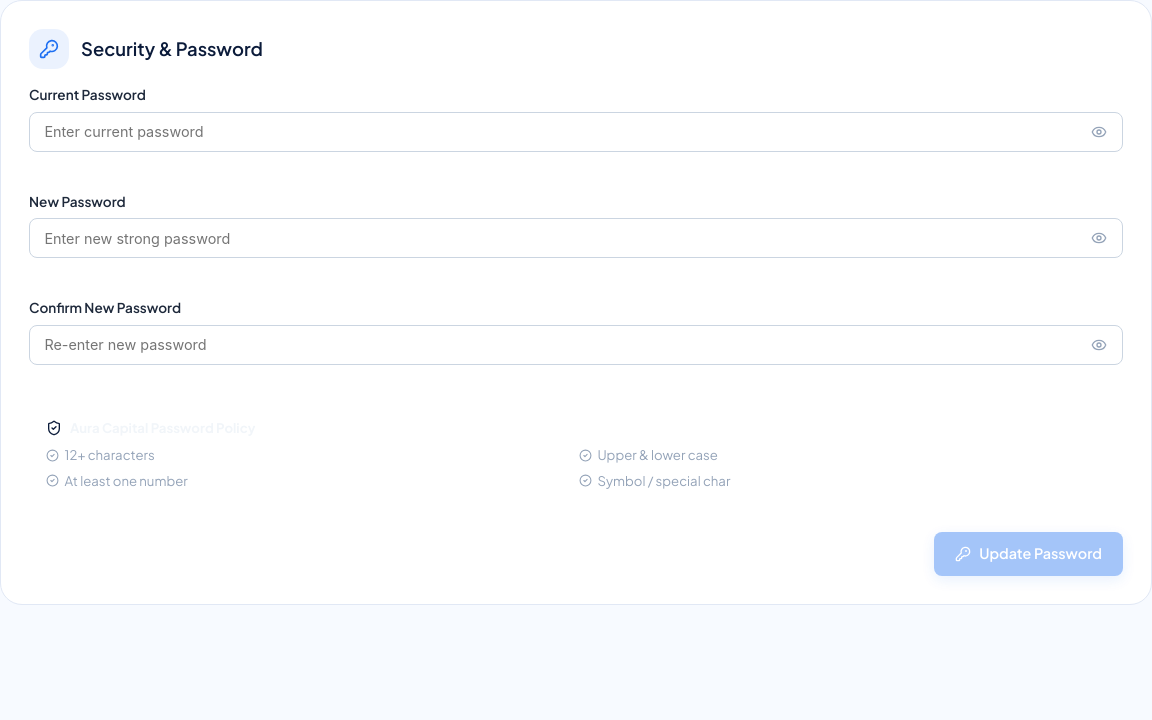
Test: ChangePasswordForm (FEAT-078) › handles server error rejection and displays error alert banner
Type "WrongCurrentPass123!" into the password field labelled "Current Password" at (576, 132), box [29,112,1123,152]
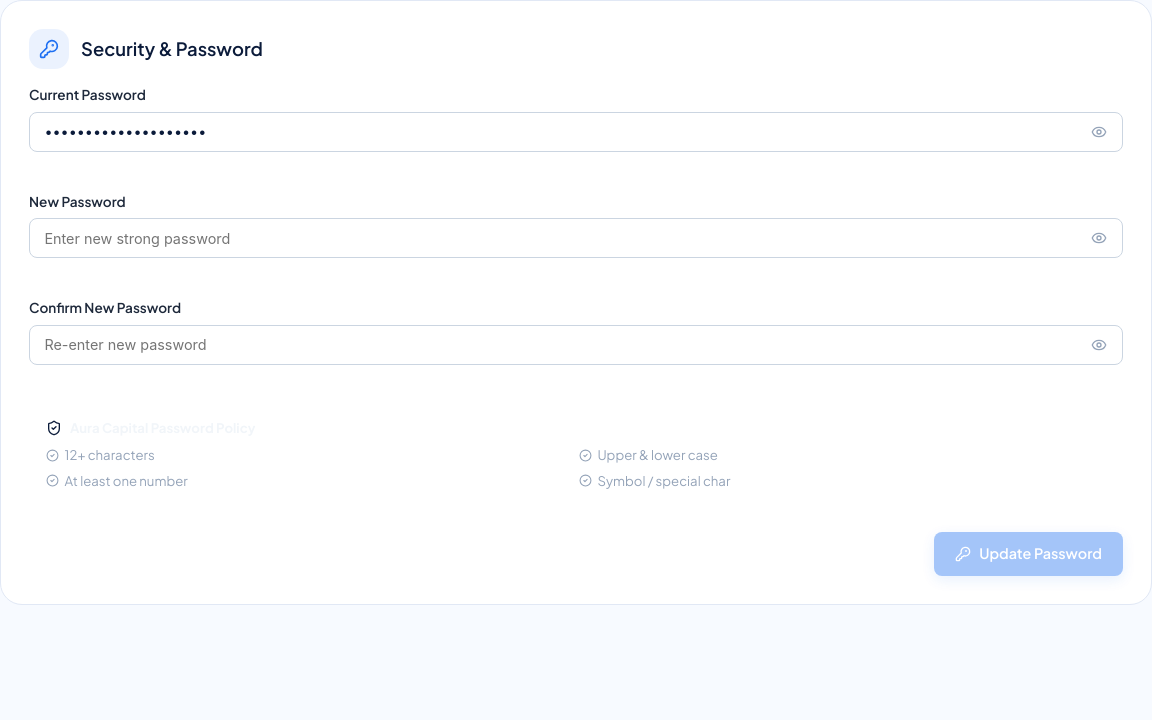
Type "ValidNewPassword123!" into the password field labelled "New Password" at (576, 238), box [29,218,1123,258]
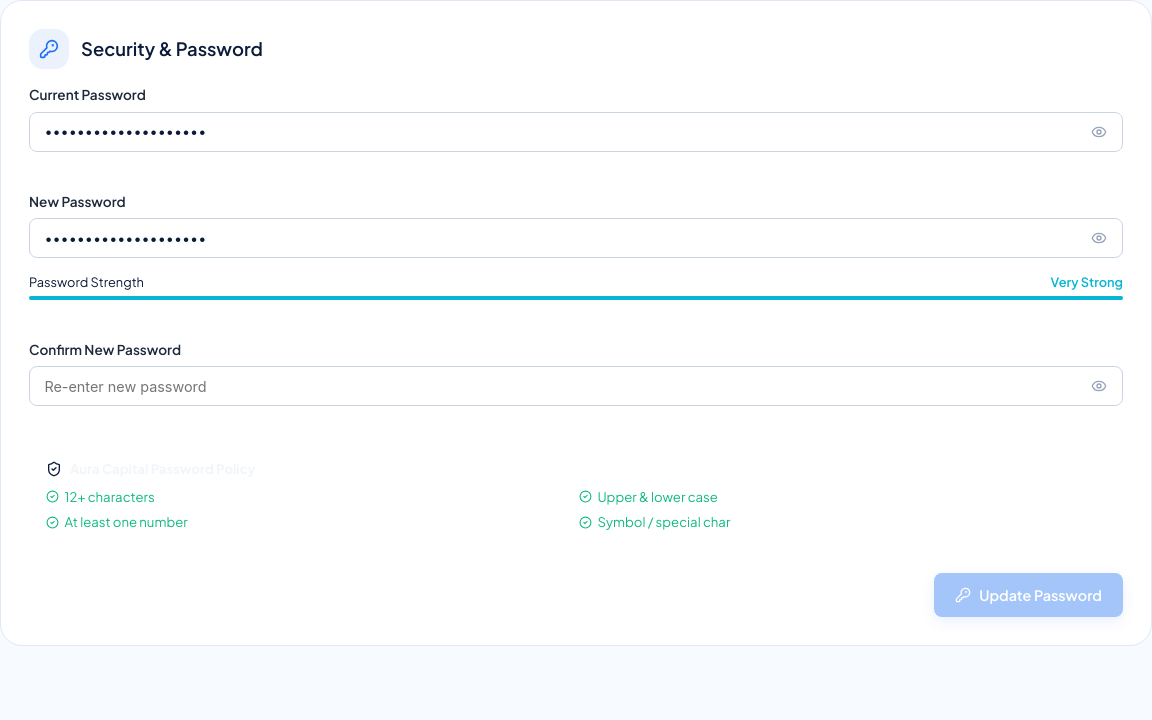
Type "ValidNewPassword123!" into the password field labelled "Confirm New Password" at (576, 386), box [29,366,1123,406]
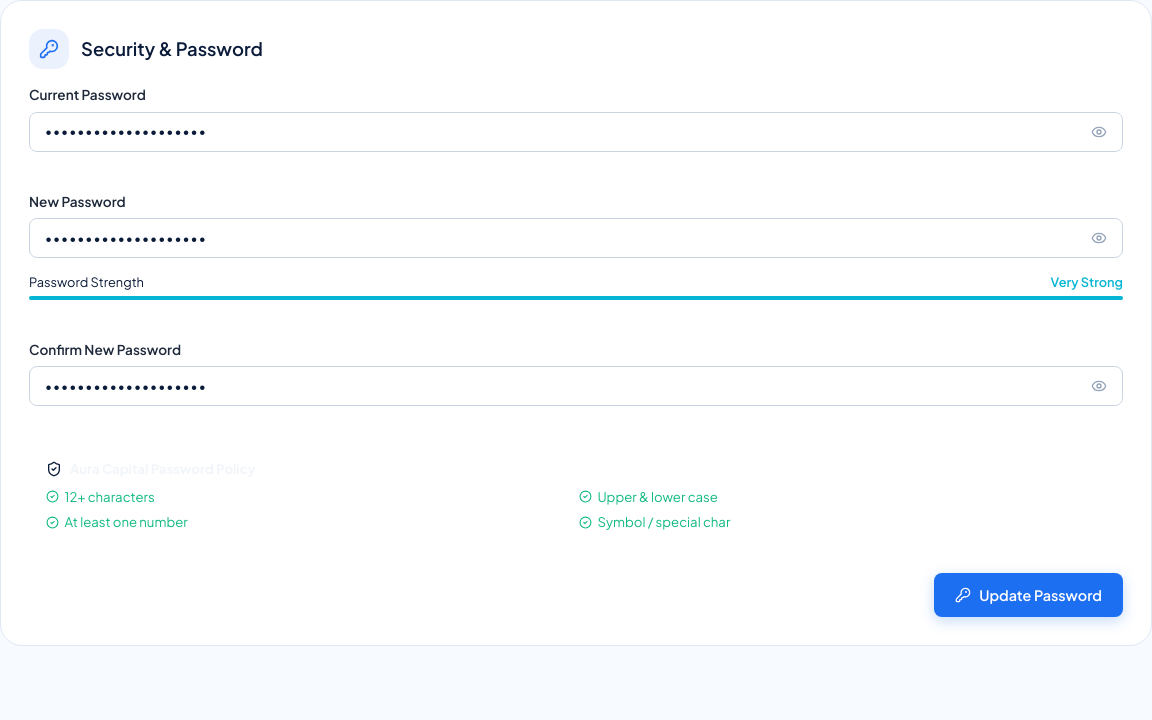
Click the button with aria-label "update account password" at (1029, 595), box [934,573,1123,617]
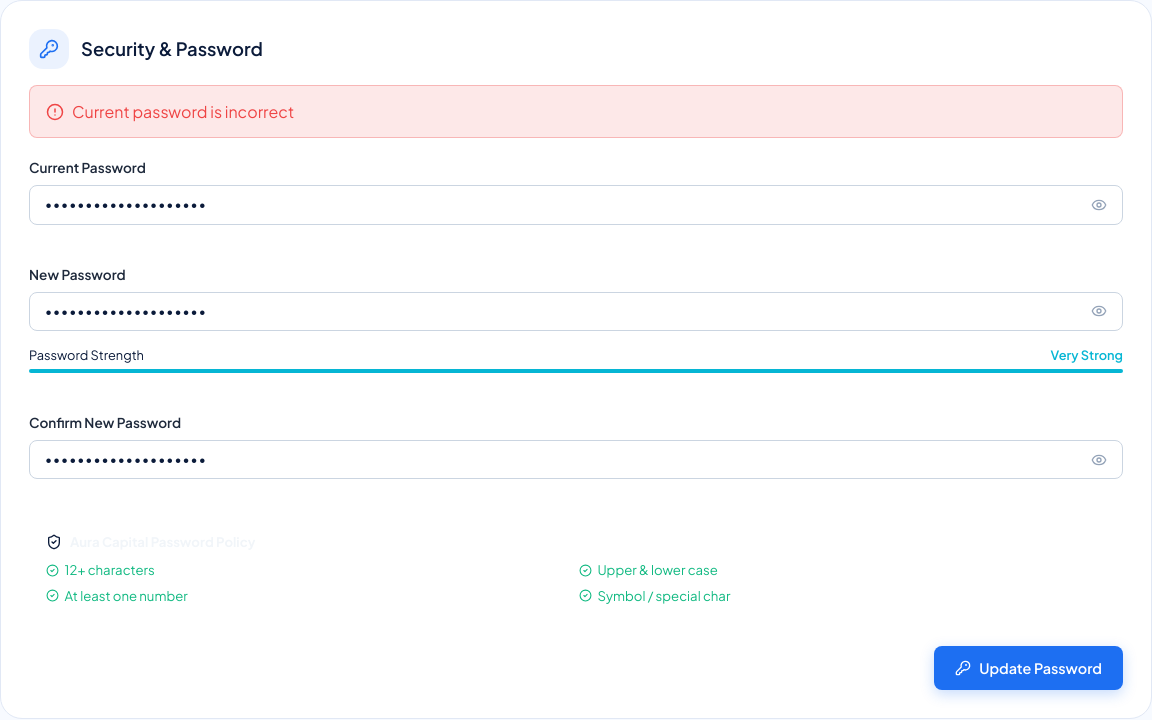
Check: the text "Current password is incorrect" is shown, box [72,100,294,124]
